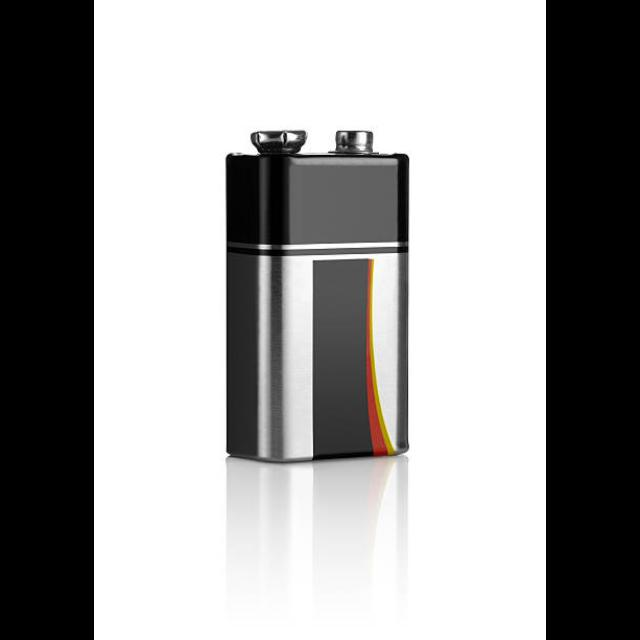Battery: (226, 130, 410, 465)
